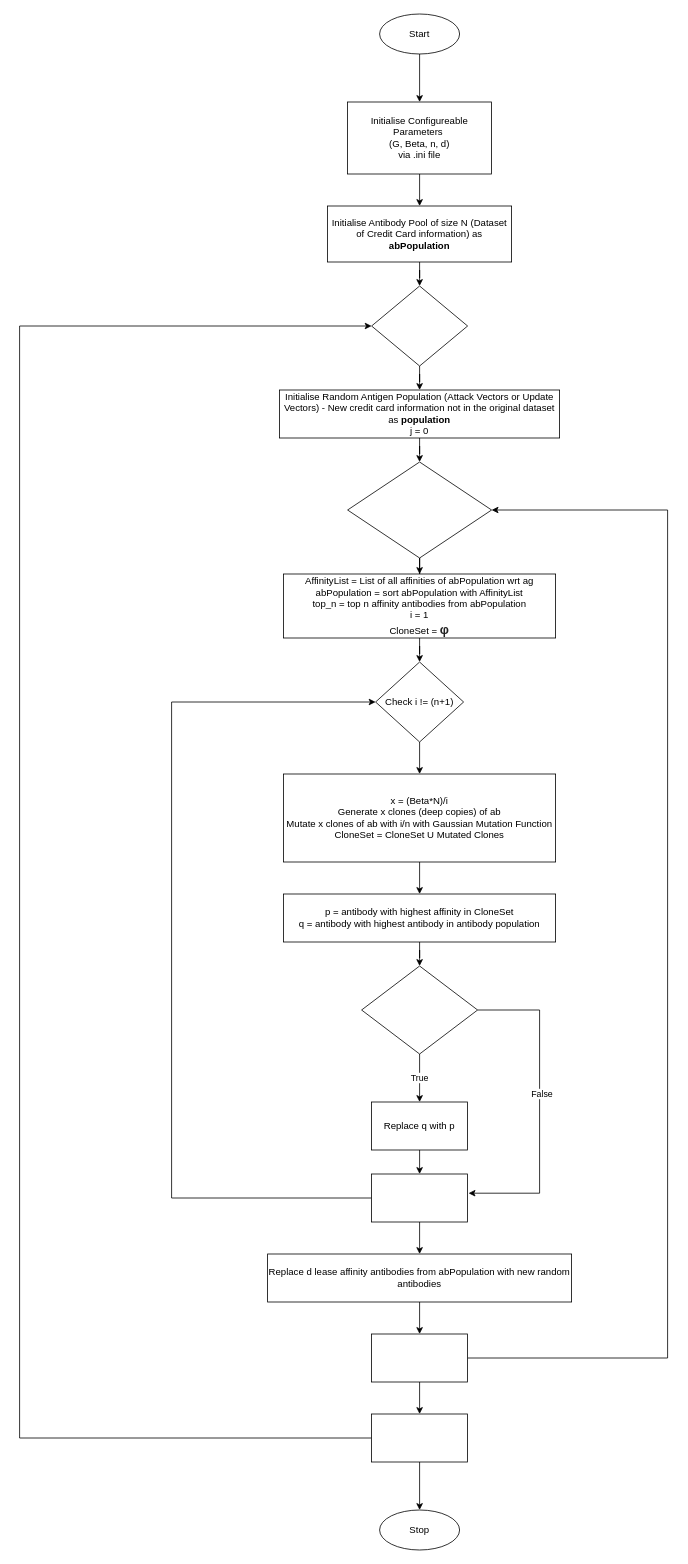
Some shapes in this 688 by 1564 pixel diagram are drawn without their labels. The centre of each missing label's shape, as x and y in pixels:
Check if g != G: the point at 419,325
g = g + 1: the point at 419,1437
i + 1: the point at 419,1197
if affinity(p) > affinity(q): the point at 419,1009
If j != length(agPopulation )+ 1: the point at 419,509
j = j + 1: the point at 419,1357
